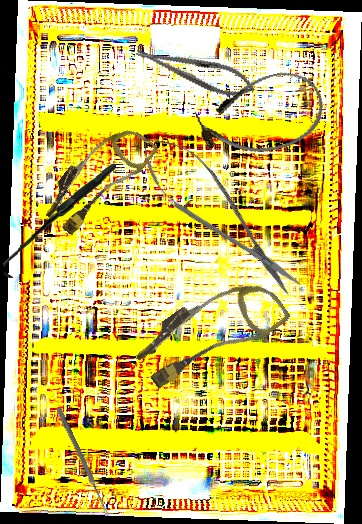Cannula: (128, 259, 292, 404), (37, 112, 159, 245), (190, 63, 332, 168)
Hook Surgical: (0, 164, 120, 278)
Micro Scissor: (122, 117, 316, 311)
Needle Holder: (132, 36, 259, 105)
Surgical Spoon: (55, 407, 111, 517)
